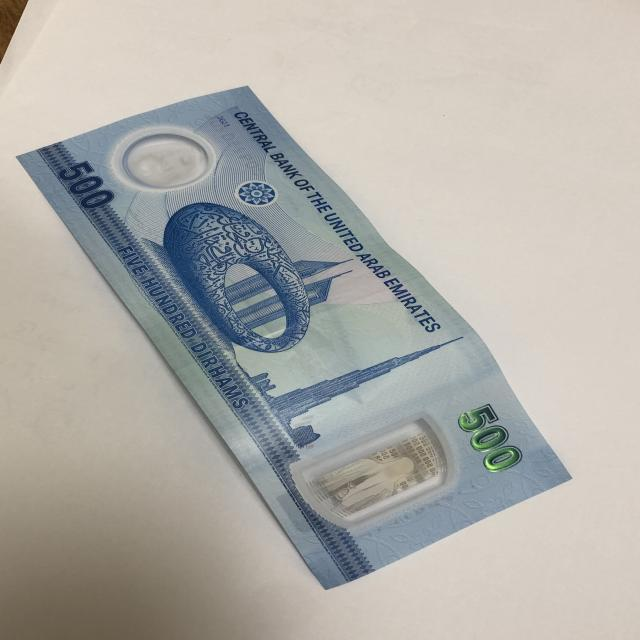500_AED: (12, 81, 582, 598)
